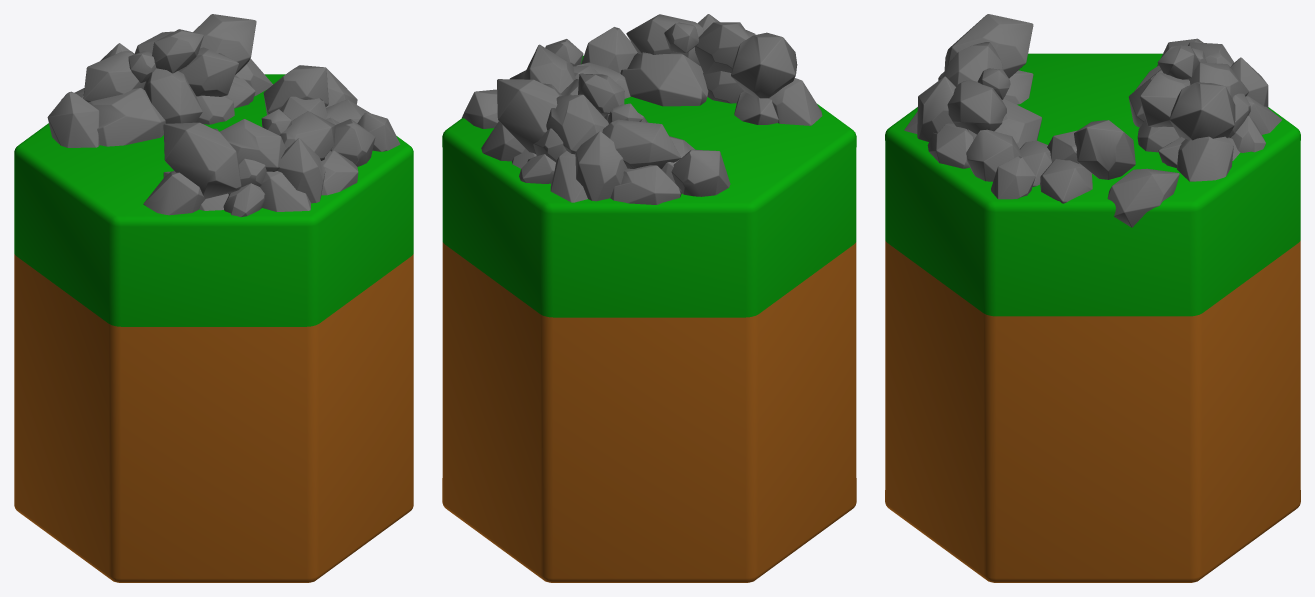
File: rockyTile6 1.fbx
3 views of the same model, side by side, from view 1: azimuth 30°, elevation 25°; view 2: azimuth 150°, elevation 25°; view 3: azimuth 270°, elevation 25° (orthographic). The views are drawn at different scales.
Parts seen in each view (by area): view 1: Cylinder, Icosphere.027, Icosphere.005, Icosphere.009, Icosphere.015, Icosphere.010, Icosphere.028, Icosphere.013, Icosphere.014, Icosphere.032, Icosphere.017, Icosphere.023 (+16 smaller); view 2: Cylinder, Icosphere.022, Icosphere.027, Icosphere.010, Icosphere.013, Icosphere, Icosphere.011, Icosphere.009, Icosphere.004, Icosphere.028, Icosphere.023, Icosphere.030 (+12 smaller); view 3: Cylinder, Icosphere.010, Icosphere.032, Icosphere.027, Icosphere.031, Icosphere.030, Icosphere.006, Icosphere.026, Icosphere.037, Icosphere.014, Icosphere.017, Icosphere.028 (+16 smaller).
Part boxes in pixels (x1,y1,x2,y2): Cylinder: (14,74,413,582); Icosphere.027: (163,122,241,198); Icosphere.005: (88,88,165,146); Icosphere.009: (47,91,100,147); Icosphere.015: (143,68,202,123); Icosphere.010: (193,14,256,74); Icosphere.028: (220,119,286,171); Icosphere.013: (83,51,145,102); Icosphere.014: (178,47,238,96); Icosphere.032: (263,65,328,114); Icosphere.017: (277,138,325,203); Icosphere.023: (143,171,205,215); Cylinder: (442,55,856,582); Icosphere.022: (620,52,708,106); Icosphere.027: (731,32,797,98); Icosphere.010: (497,79,561,153); Icosphere.013: (602,119,680,168); Icosphere: (575,131,627,201); Icosphere.011: (546,94,608,154); Icosphere.009: (671,149,730,196); Icosphere.004: (610,165,682,204); Icosphere.028: (694,22,755,74); Icosphere.023: (769,78,822,125); Icosphere.030: (626,14,704,65); Cylinder: (885,53,1300,582); Icosphere.010: (1169,82,1235,140); Icosphere.032: (1074,120,1135,179); Icosphere.027: (944,14,1033,78); Icosphere.031: (1107,168,1179,227); Icosphere.030: (947,80,1006,134); Icosphere.006: (1177,136,1233,181); Icosphere.026: (966,129,1021,181); Icosphere.037: (1040,159,1092,203); Icosphere.014: (1140,72,1190,127); Icosphere.017: (917,76,956,141); Icosphere.028: (942,42,1002,86).
Bounding box in the file's own units: 177 × 244 × 198.
